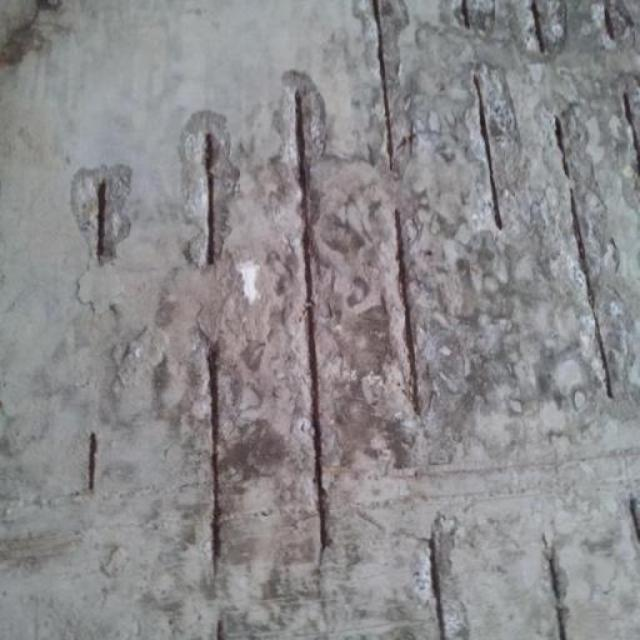D0w0: (128, 6, 639, 613)
